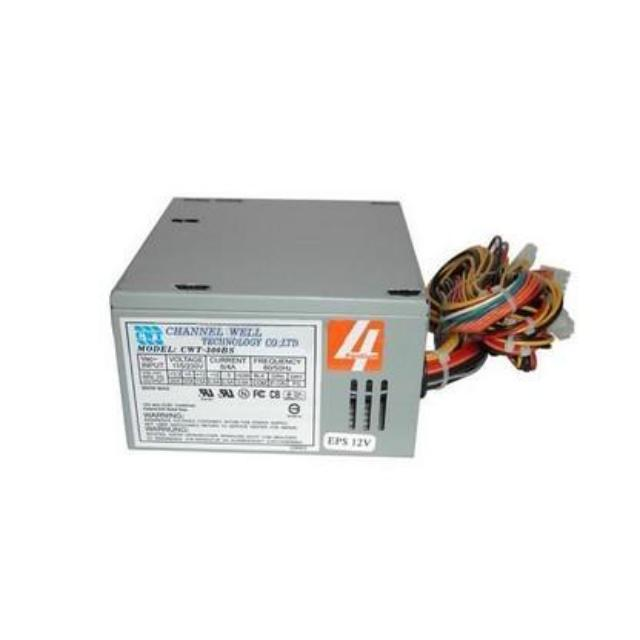PSU: (99, 184, 442, 472)
